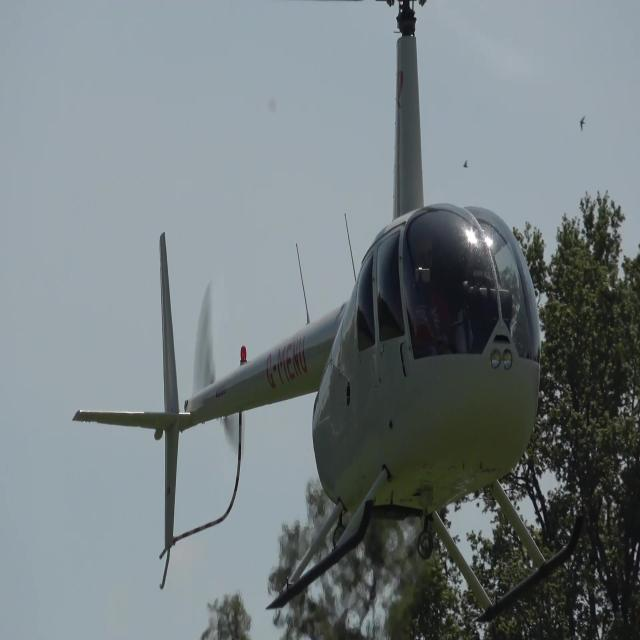CIV_HELO: (69, 27, 588, 628)
